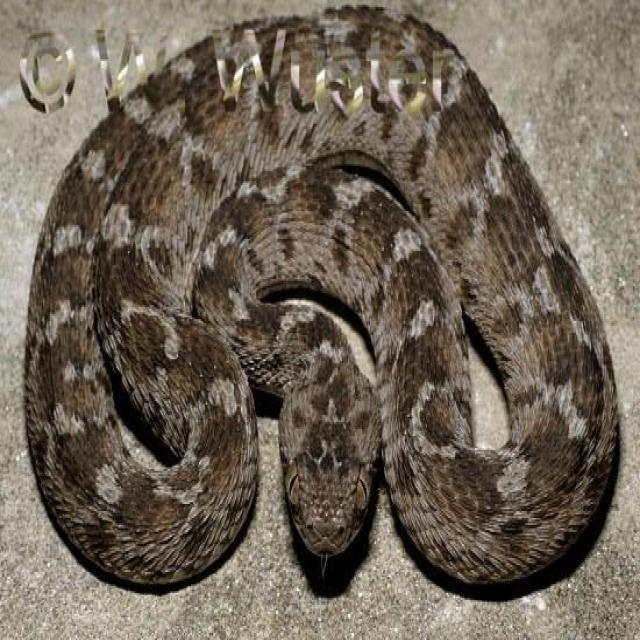Snake: (22, 3, 619, 590)
